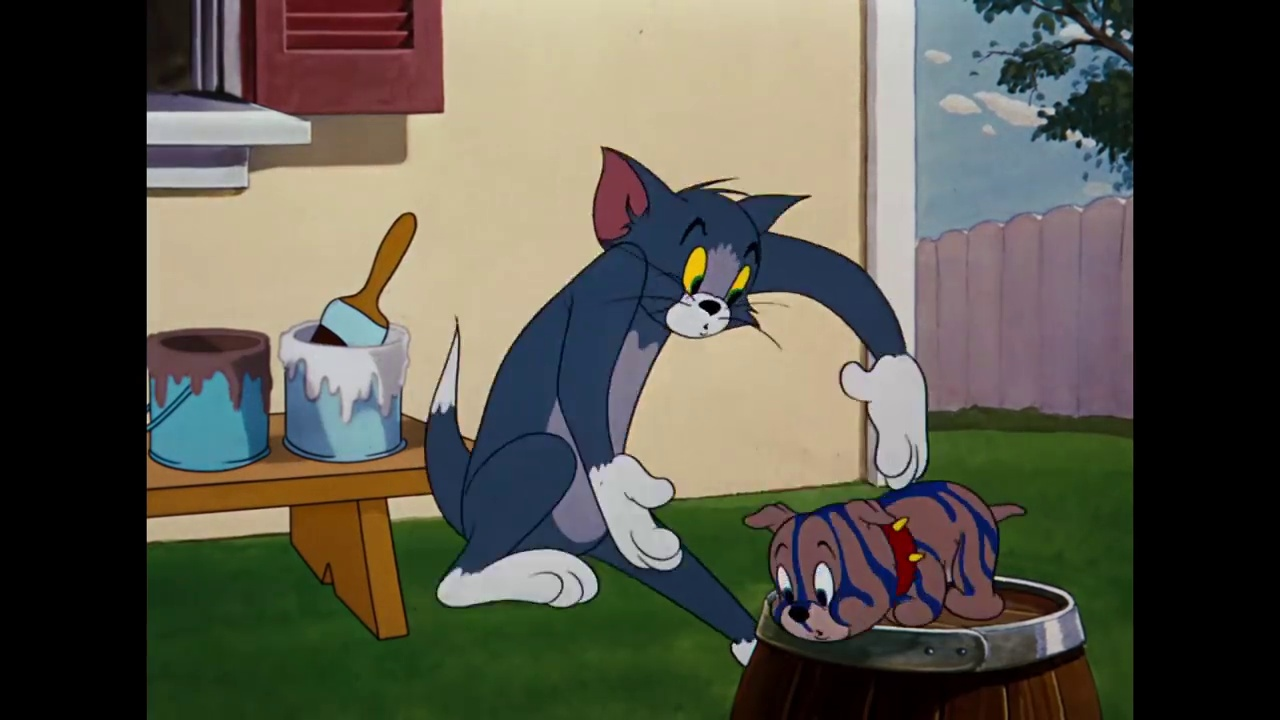tom: (580, 142, 811, 346)
